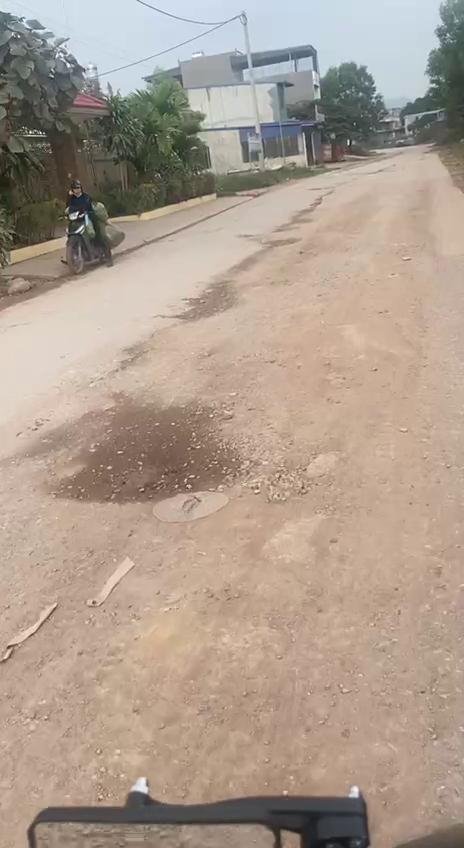pothole: (251, 312, 438, 508), (37, 398, 262, 506), (171, 274, 244, 326)
